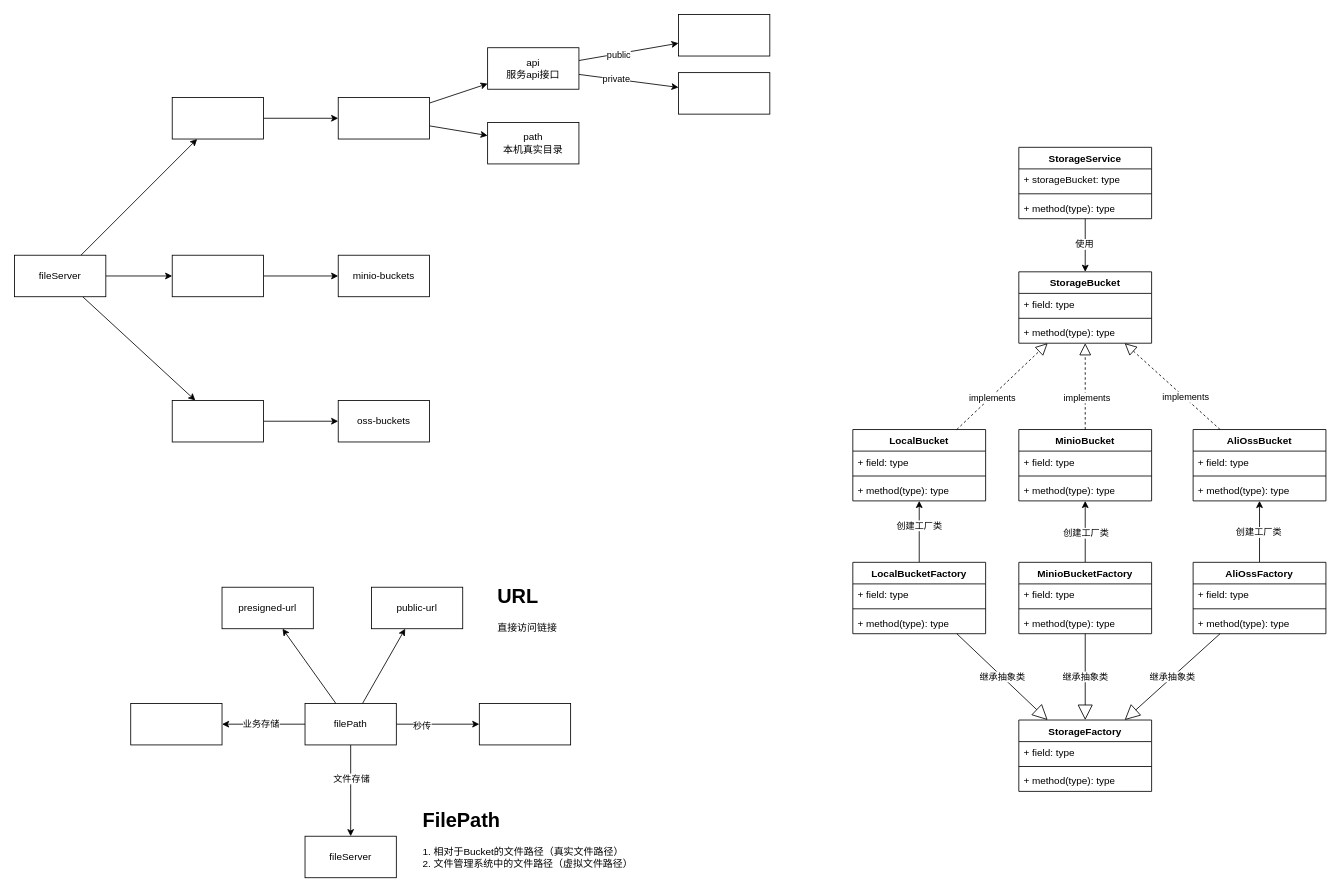
The diagram is 1340 pixels wide and 895 high, and some of its shapes have lost their labels. Each missing label, with the centre of its shape:
"cache" belongs at pixel 524 724.
"datasource" belongs at pixel 176 724.
"local" belongs at pixel 217 118.
"local-buckets" belongs at pixel 383 118.
"minio" belongs at pixel 217 275.
"mvc-controller" belongs at pixel 724 93.
"mvc-static" belongs at pixel 724 35.
"oss" belongs at pixel 217 421.
